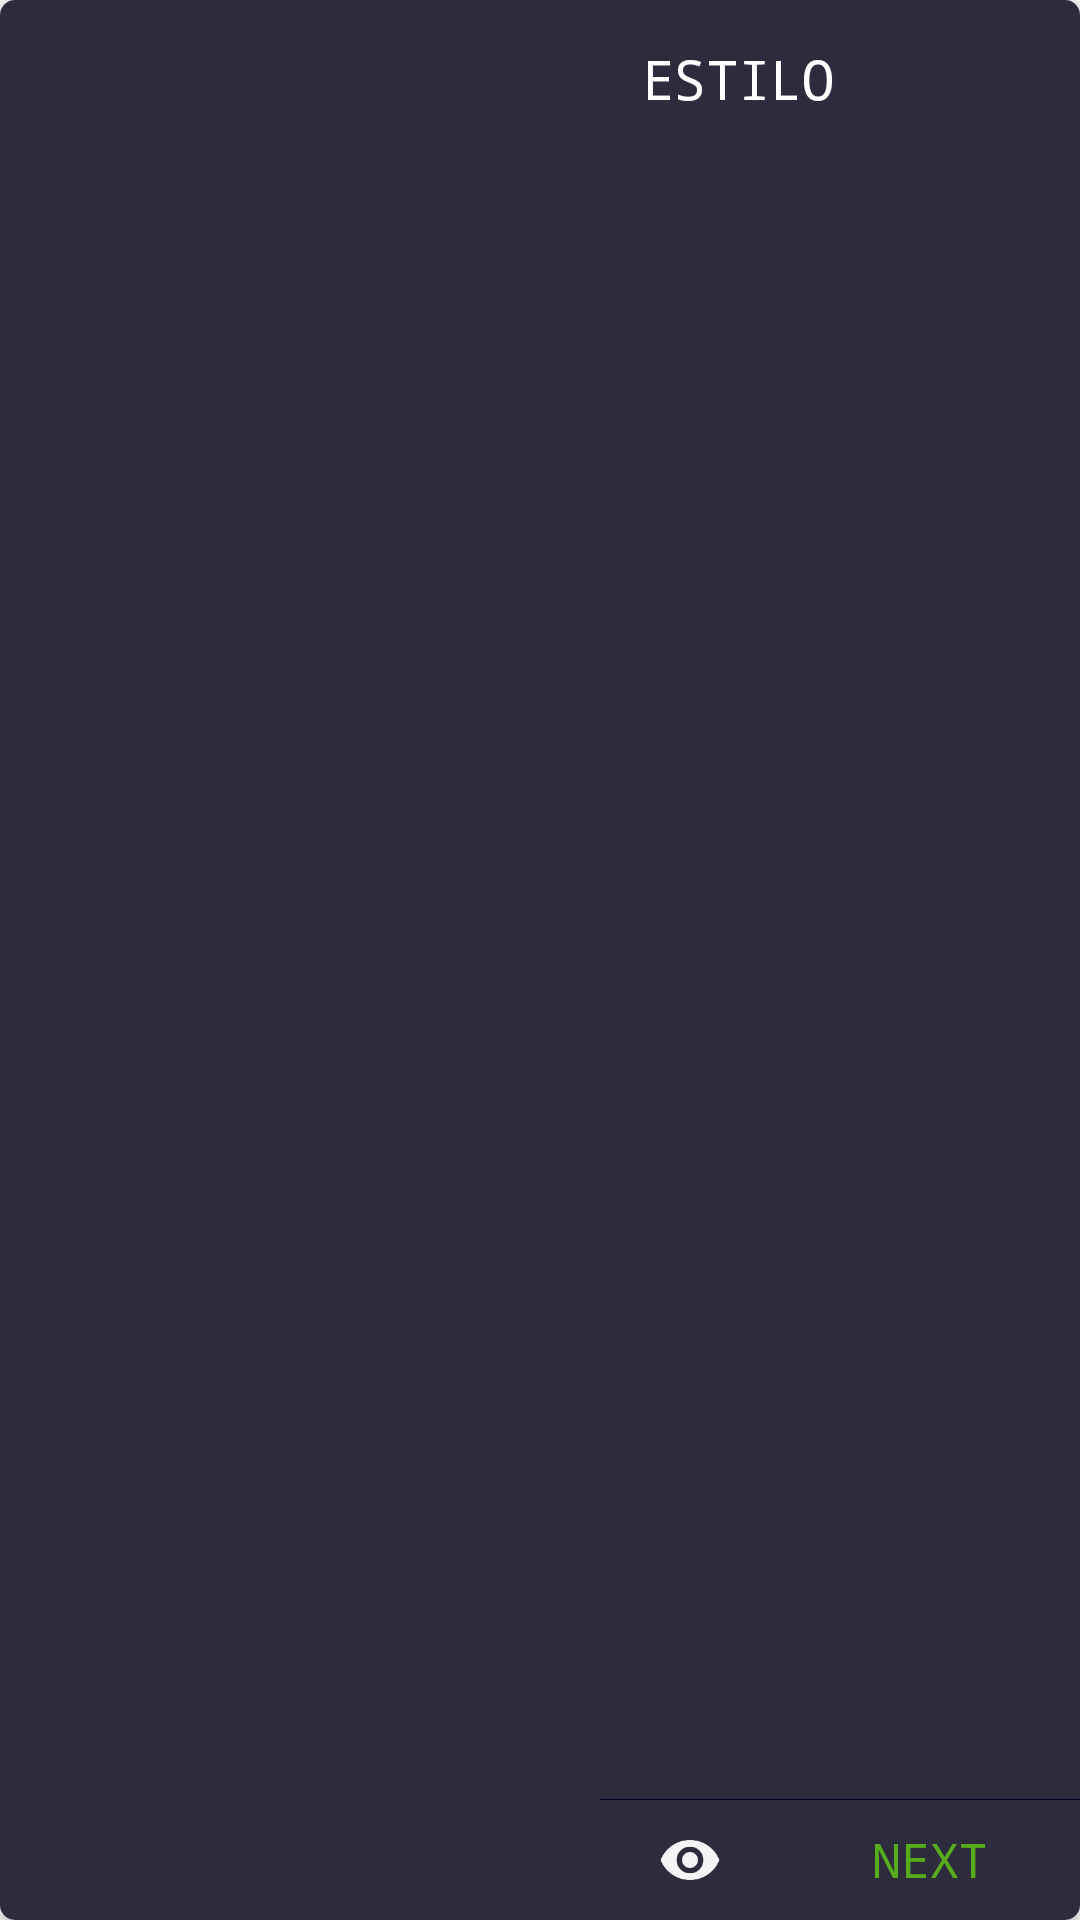

Icons on this 1080×1920 Android screen, each with the point to tap as (x=x, y=y):
eye: (x=690, y=1860)
